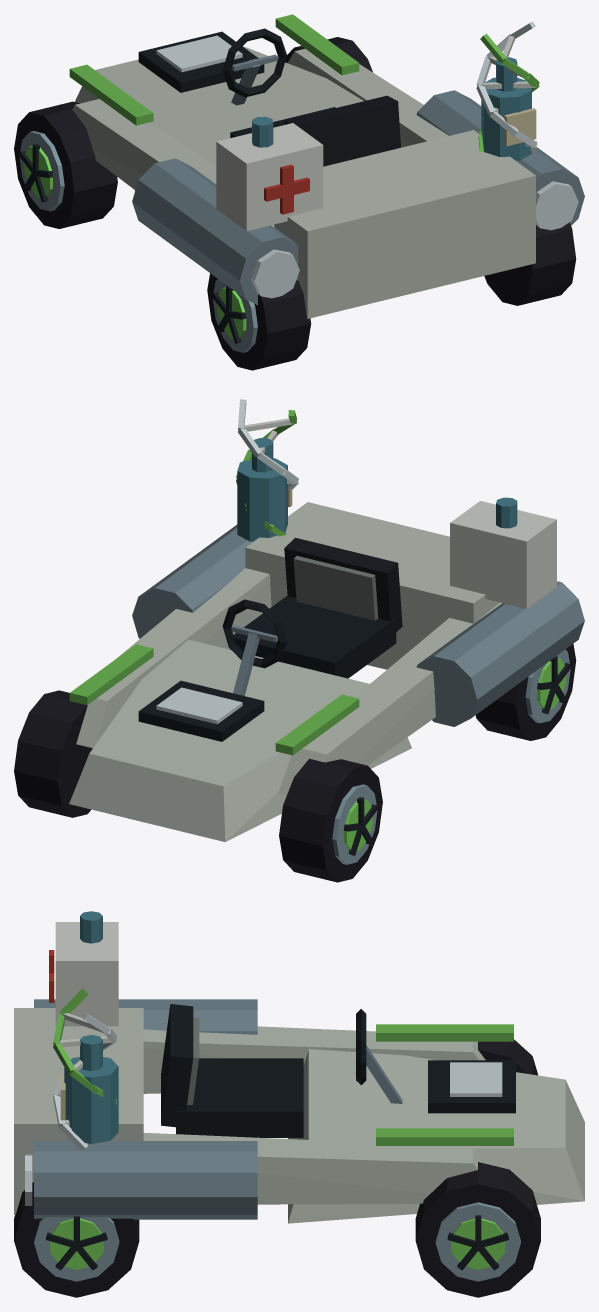
The model's file is kart.glb.
3 renders of one model, top to bottom at view 1: azimuth 30°, elevation 25°; view 2: azimuth 150°, elevation 25°; view 3: azimuth 270°, elevation 25°, orthographic. The views are drawn at different scales.
Parts seen in each view (by area): view 1: identity-lab-pod-lab-pod-segmented-shell, wheel-front-left, identity-lab-pod-motif-medical, identity-lab-pod-driver-cockpit, wheel-rear-left, identity-lab-pod-motif-bottles, wheel-rear-right, identity-lab-pod-motif-dna, wheel-front-right; view 2: identity-lab-pod-lab-pod-segmented-shell, identity-lab-pod-driver-cockpit, wheel-front-left, identity-lab-pod-motif-medical, wheel-front-right, wheel-rear-left, identity-lab-pod-motif-bottles, identity-lab-pod-motif-dna; view 3: identity-lab-pod-lab-pod-segmented-shell, identity-lab-pod-driver-cockpit, wheel-front-right, wheel-rear-right, identity-lab-pod-motif-medical, identity-lab-pod-motif-bottles, identity-lab-pod-motif-dna, wheel-front-left.
Boxes of the visible parts, x1,y1,x2,y2 form: identity-lab-pod-lab-pod-segmented-shell: (69, 14, 584, 318); wheel-front-left: (14, 101, 117, 228); identity-lab-pod-motif-medical: (216, 123, 323, 230); identity-lab-pod-driver-cockpit: (222, 28, 400, 166); wheel-rear-left: (207, 273, 311, 370); identity-lab-pod-motif-bottles: (252, 57, 536, 160); wheel-rear-right: (484, 222, 576, 305); identity-lab-pod-motif-dna: (476, 21, 539, 154); wheel-front-right: (285, 37, 372, 72); identity-lab-pod-lab-pod-segmented-shell: (69, 502, 584, 841); identity-lab-pod-driver-cockpit: (222, 537, 402, 695); wheel-front-left: (279, 758, 382, 882); identity-lab-pod-motif-medical: (450, 501, 556, 608); wheel-front-right: (14, 690, 92, 817); wheel-rear-left: (475, 644, 576, 740); identity-lab-pod-motif-bottles: (237, 438, 517, 541); identity-lab-pod-motif-dna: (236, 399, 298, 536); identity-lab-pod-lab-pod-segmented-shell: (14, 999, 584, 1223); identity-lab-pod-driver-cockpit: (161, 1004, 402, 1137); wheel-front-right: (415, 1162, 540, 1297); wheel-rear-right: (14, 1182, 139, 1297); identity-lab-pod-motif-medical: (49, 922, 118, 1026); identity-lab-pod-motif-bottles: (60, 911, 118, 1143); identity-lab-pod-motif-dna: (53, 988, 117, 1149); wheel-front-left: (478, 1039, 537, 1075).
Size of the model in its own units: 1.98 by 1.47 by 2.73.
